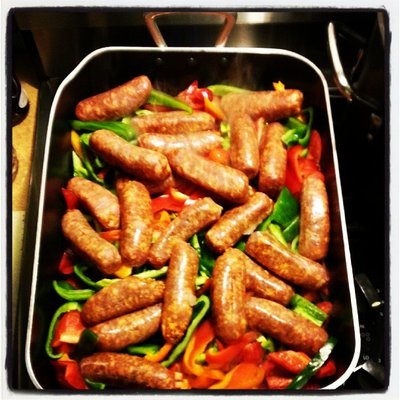sushi: (22, 41, 345, 381)
